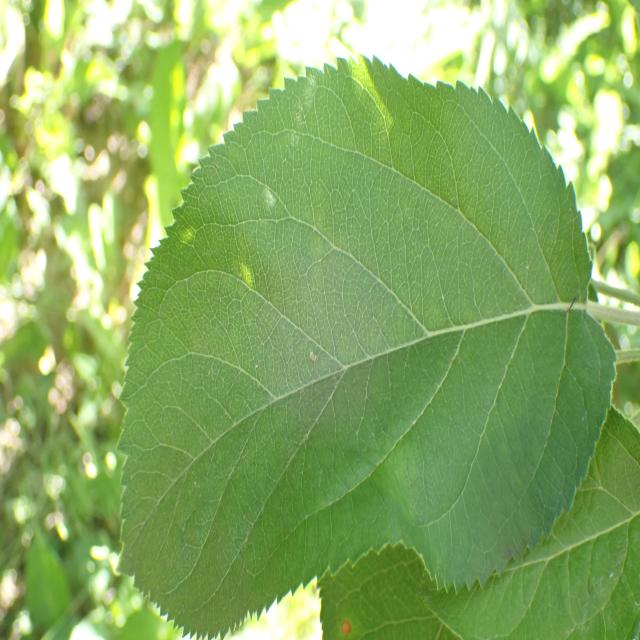healthy: (114, 47, 615, 640), (321, 401, 640, 640)
